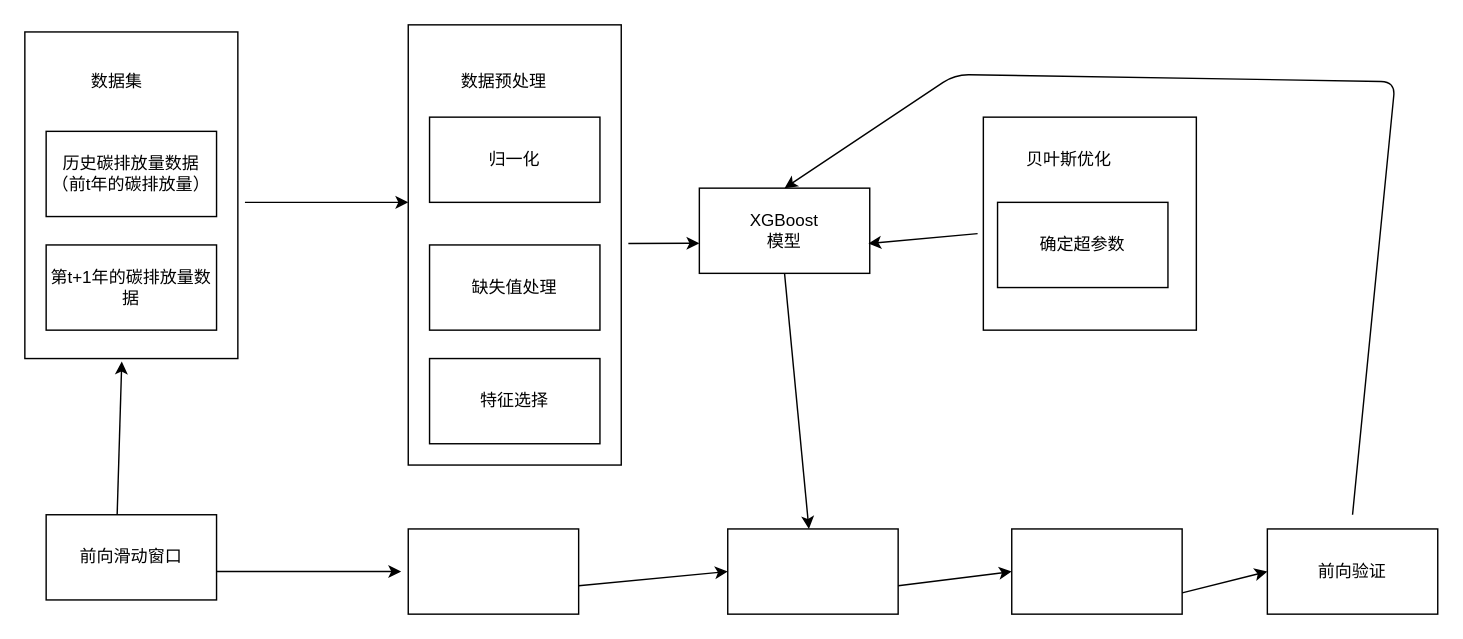
Image size: 1463x639. Some labels were removed from this diagram. The centre of each missing label's shape, as x and y in pixels:
历史碳排放量特征矩阵: point 493,571
碳排放预测模型: point 812,571
预测结果: point 1096,571
